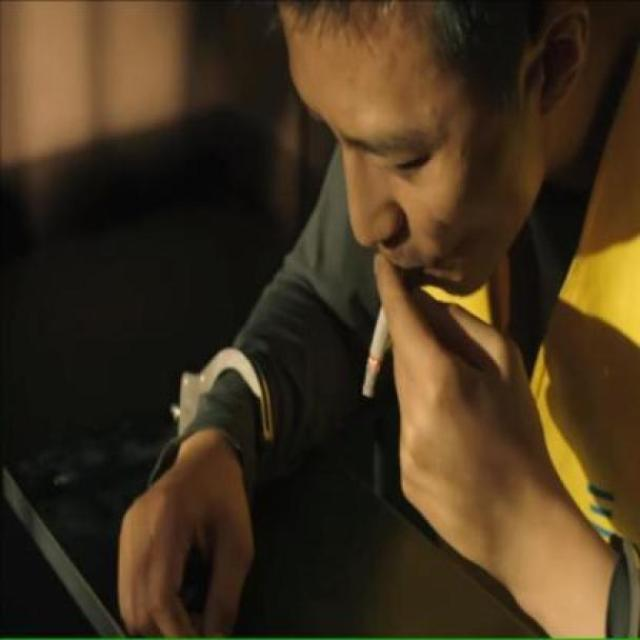rokok: (353, 290, 391, 404)
